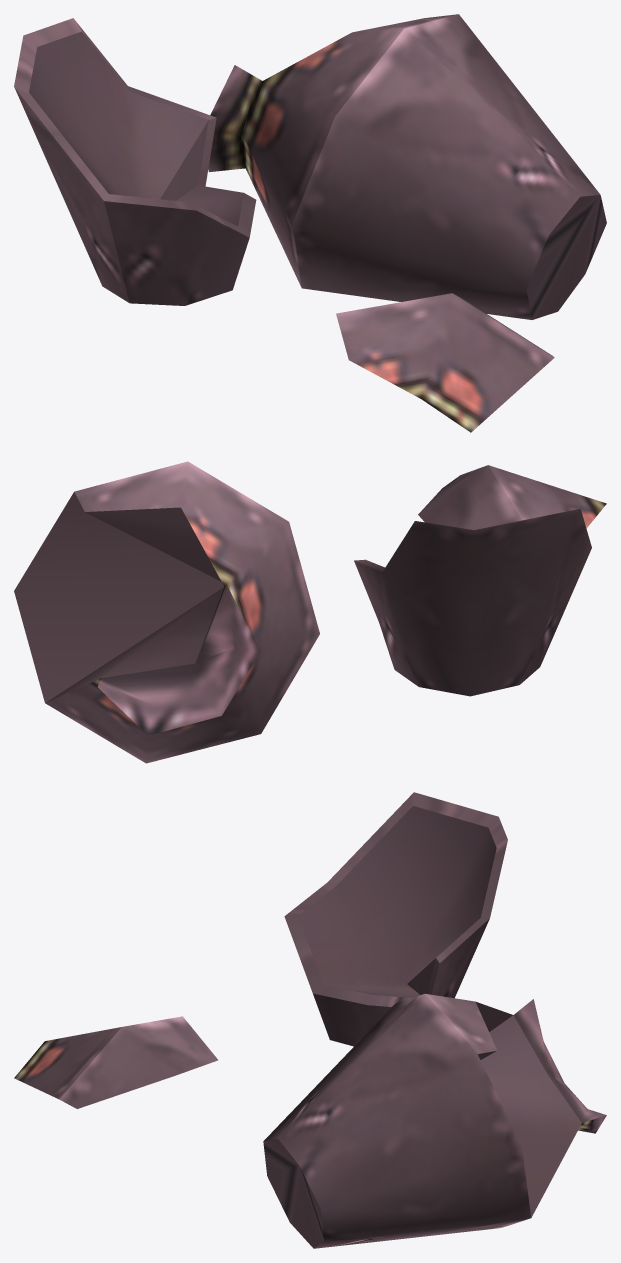
File: Z01_guanzi_03.FBX
3 views of the same model, one above another, from view 1: azimuth 30°, elevation 25°; view 2: azimuth 150°, elevation 25°; view 3: azimuth 270°, elevation 25° (orthographic). The views are drawn at different scales.
Visible parts, largest first — view 1: 对象121; view 2: 对象121; view 3: 对象121.
Part boxes in pixels (box(x1,y1,x2,y2)): 对象121: box(14, 14, 606, 432); 对象121: box(14, 461, 606, 763); 对象121: box(14, 792, 606, 1248).
Size of the model in its own units: 0.821 by 0.4666 by 0.9213.
Materials: 1 (1 with a texture image).
